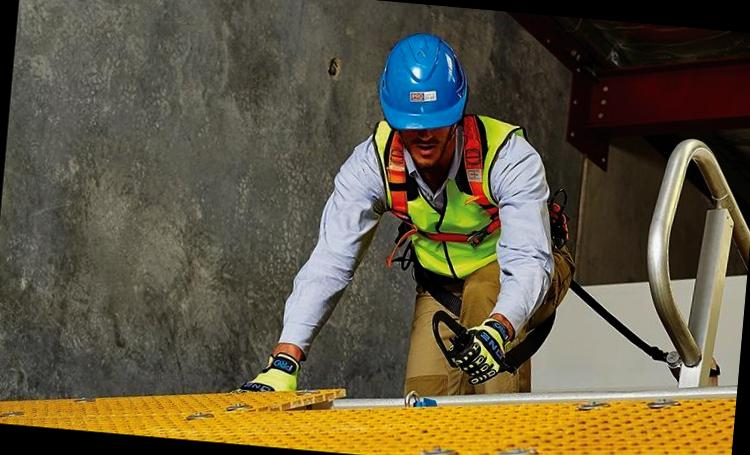helmet: (364, 23, 476, 137)
person: (268, 20, 598, 416)
